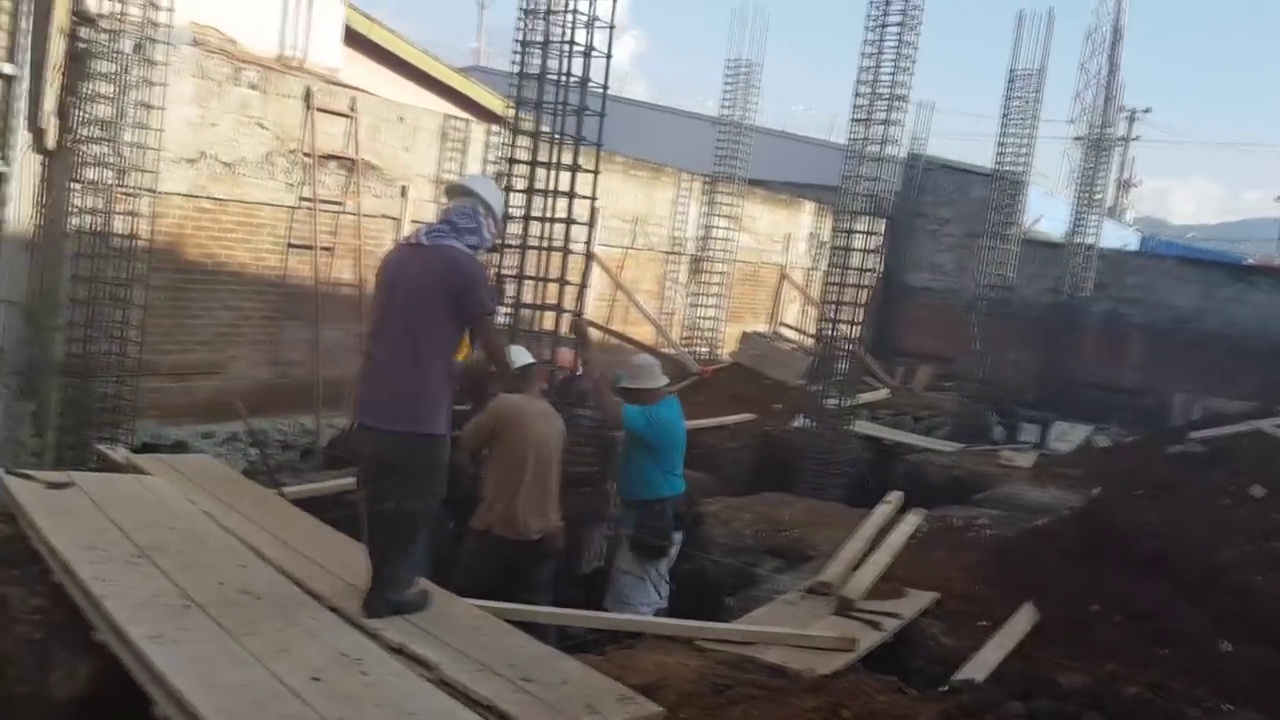helmet: (435, 172, 509, 225), (502, 345, 540, 377)
helmet-off: (616, 360, 667, 407)
helmet-on: (434, 170, 507, 255), (496, 343, 541, 395)
person: (337, 149, 506, 591), (456, 343, 563, 603), (600, 339, 693, 629)
